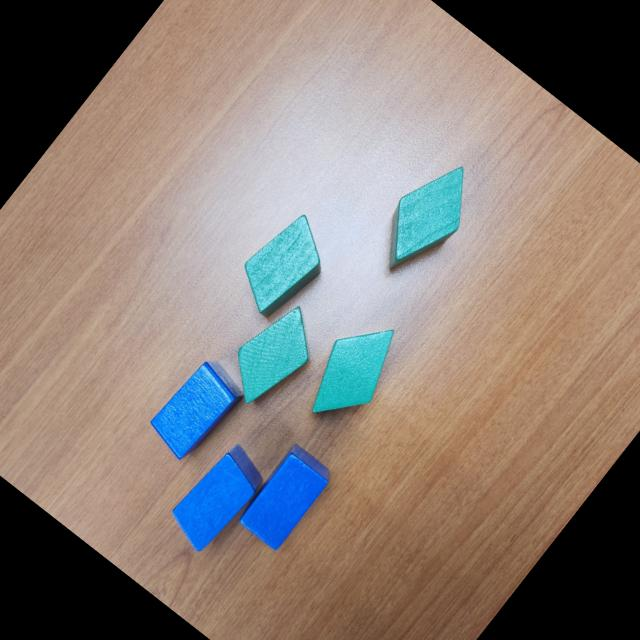blue: (162, 436, 274, 558), (142, 351, 250, 467), (233, 442, 337, 554)
green: (360, 148, 490, 289), (291, 306, 414, 437), (215, 292, 333, 418), (225, 204, 342, 328)
